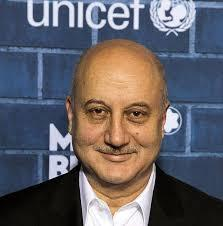normalMouth: (99, 148, 136, 164)
